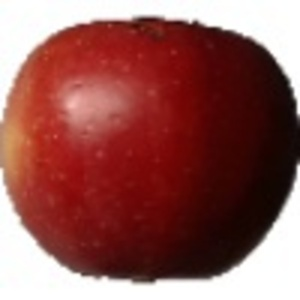maçã braeburn: (1, 12, 298, 288)
